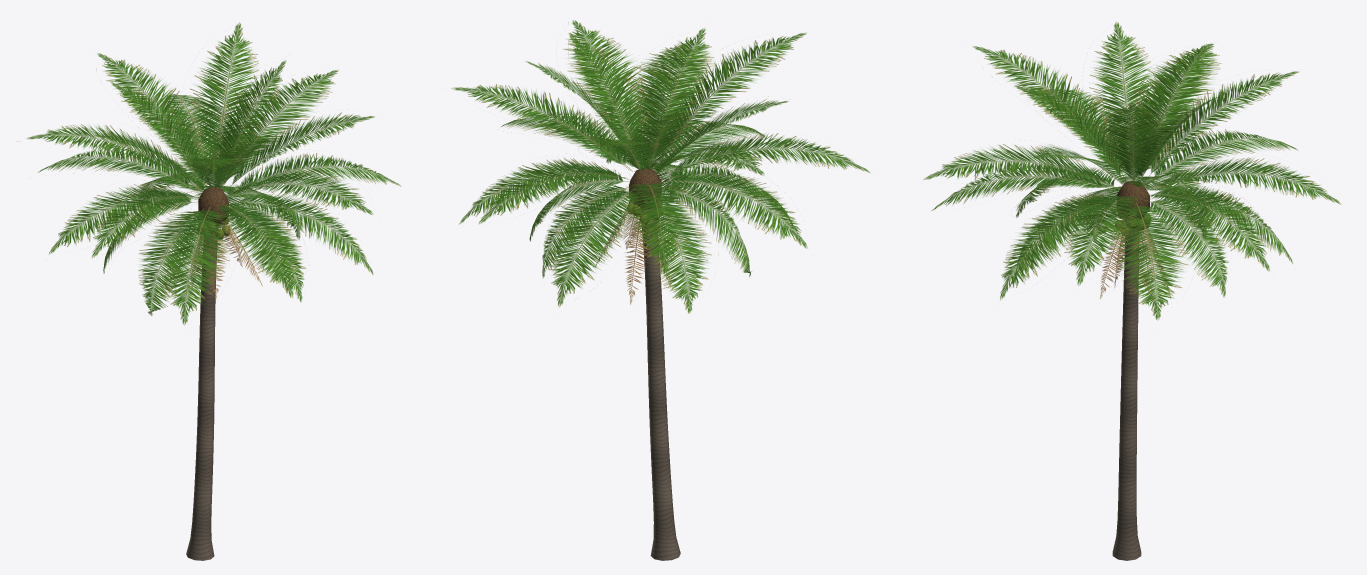
The model's file is palm_coconut.glb.
The picture shows the model from 3 angles, left to right: view 1: azimuth 30°, elevation 25°; view 2: azimuth 150°, elevation 25°; view 3: azimuth 270°, elevation 25°; orthographic projection. The views are drawn at different scales.
Visible parts, largest first — view 1: palm_coconut; view 2: palm_coconut; view 3: palm_coconut.
Boxes of the visible parts, <box> form: palm_coconut: <box>26,22,401,560</box>; palm_coconut: <box>451,20,869,560</box>; palm_coconut: <box>923,22,1340,560</box>.
Size of the model in its own units: 10.05 by 13.42 by 10.54.
Materials: 1 (1 with a texture image).
